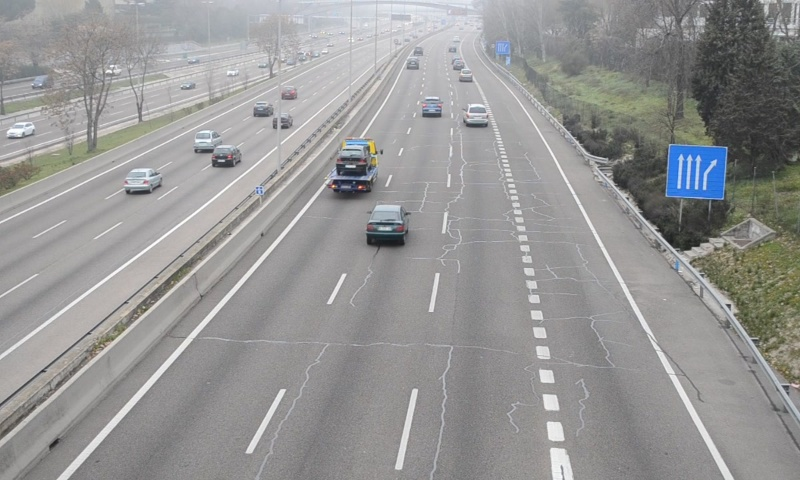car: (364, 205, 408, 241), (462, 103, 490, 126), (421, 96, 442, 116), (458, 68, 473, 82)
small-truck: (326, 138, 378, 194)
